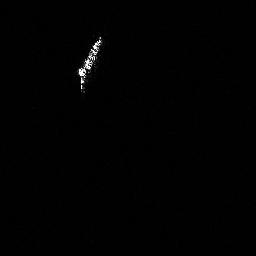ship: (74, 32, 105, 95)
